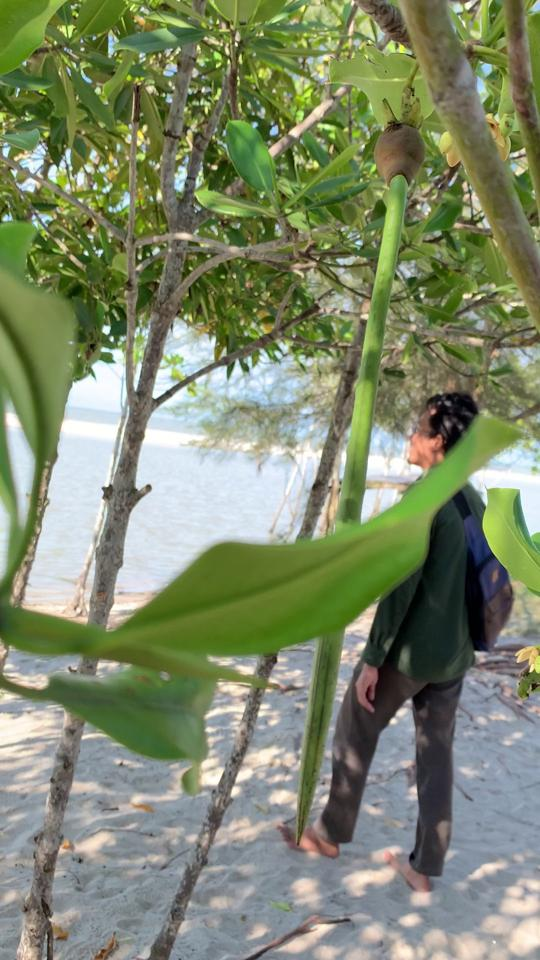setengah matang: (276, 95, 438, 856)
